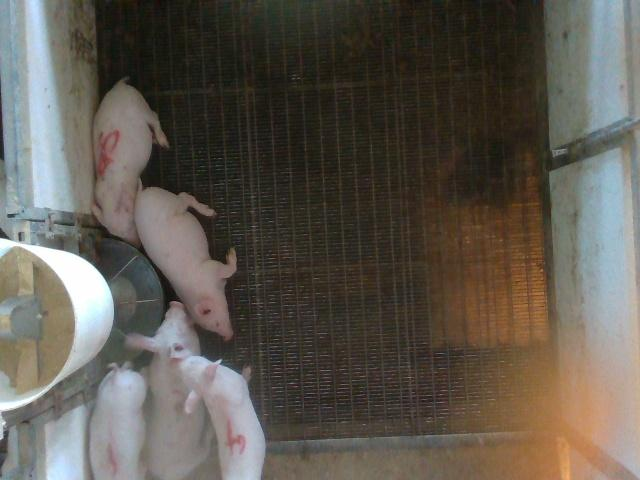pig-1: (89, 361, 146, 479)
pig-3: (125, 301, 212, 479)
pig-4: (179, 356, 265, 478)
pig-5: (92, 79, 169, 246)
